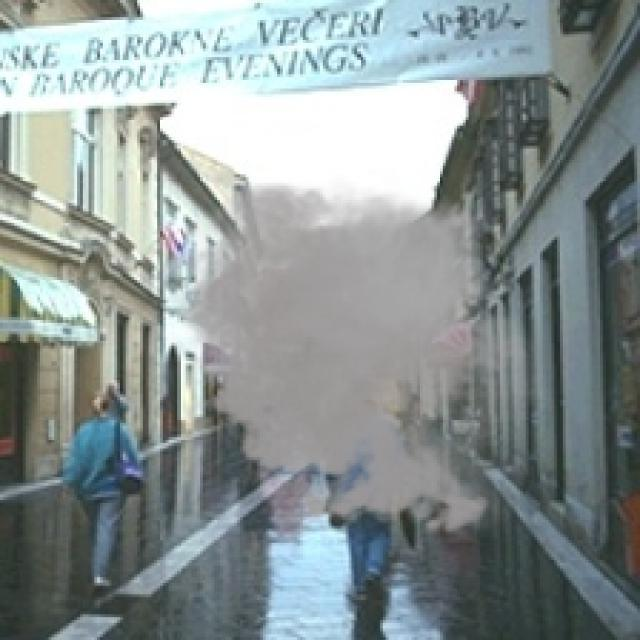Smoke: (159, 168, 552, 546)
